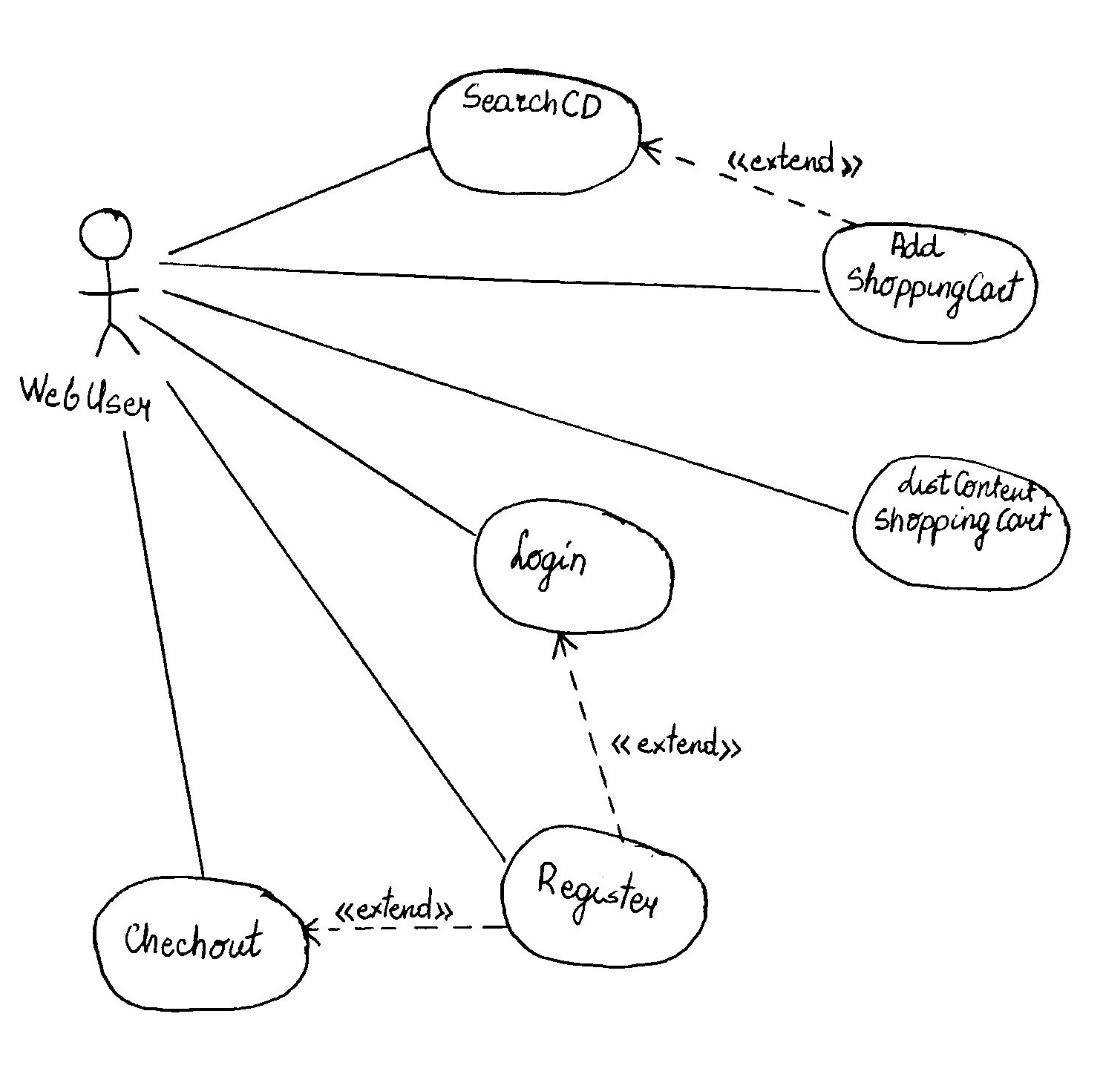actor: (73, 204, 147, 368)
association: (164, 377, 506, 862), (164, 288, 852, 515), (141, 313, 475, 537), (123, 430, 205, 874), (167, 144, 432, 256), (157, 258, 822, 295), (639, 136, 850, 221), (548, 634, 631, 838), (300, 911, 504, 950)
text: (839, 231, 1029, 320), (874, 466, 1063, 549), (529, 854, 672, 932), (114, 917, 282, 973), (17, 368, 162, 426), (500, 526, 604, 602), (468, 76, 604, 130), (611, 713, 743, 768), (728, 139, 867, 180), (333, 885, 468, 924)
use_case: (851, 454, 1070, 595), (91, 874, 310, 1015), (497, 823, 706, 970), (425, 64, 642, 198), (472, 495, 676, 637), (824, 219, 1040, 348)
